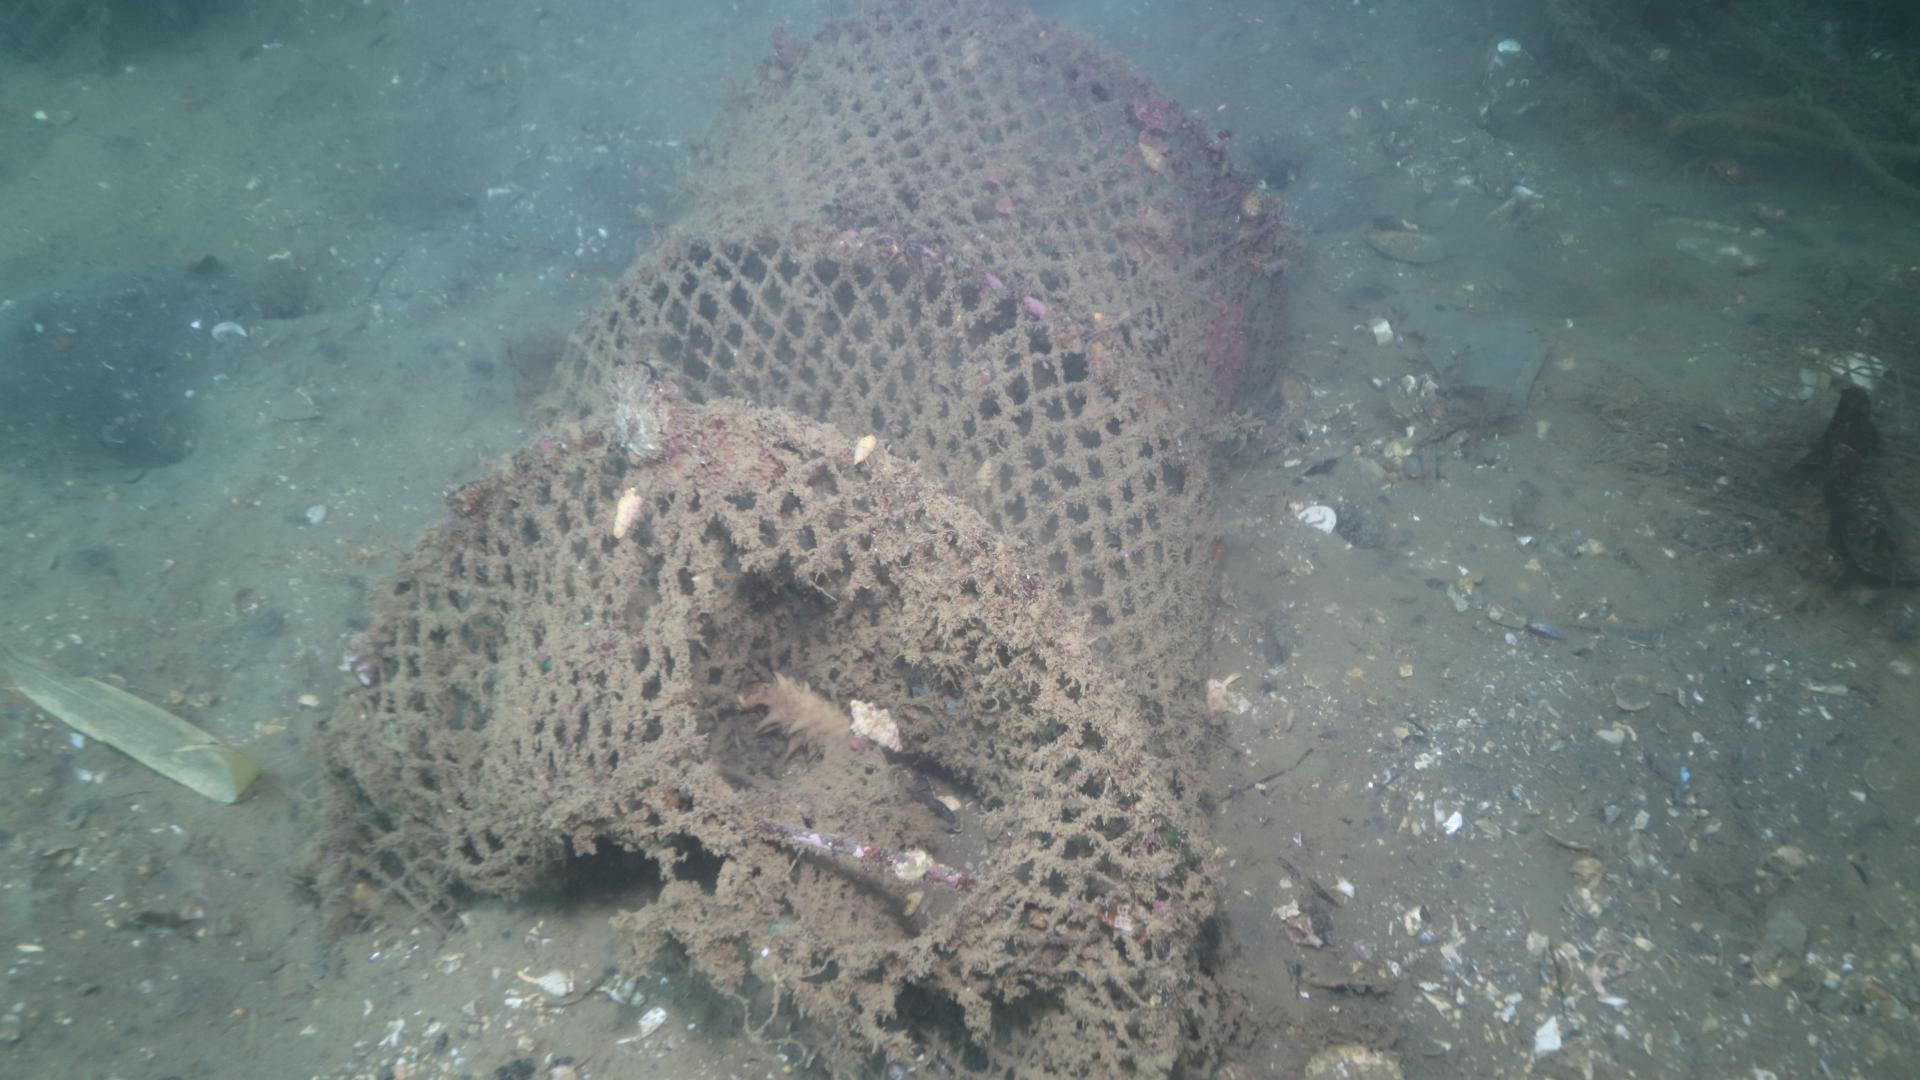spring fish trap: (342, 5, 1282, 1062)
